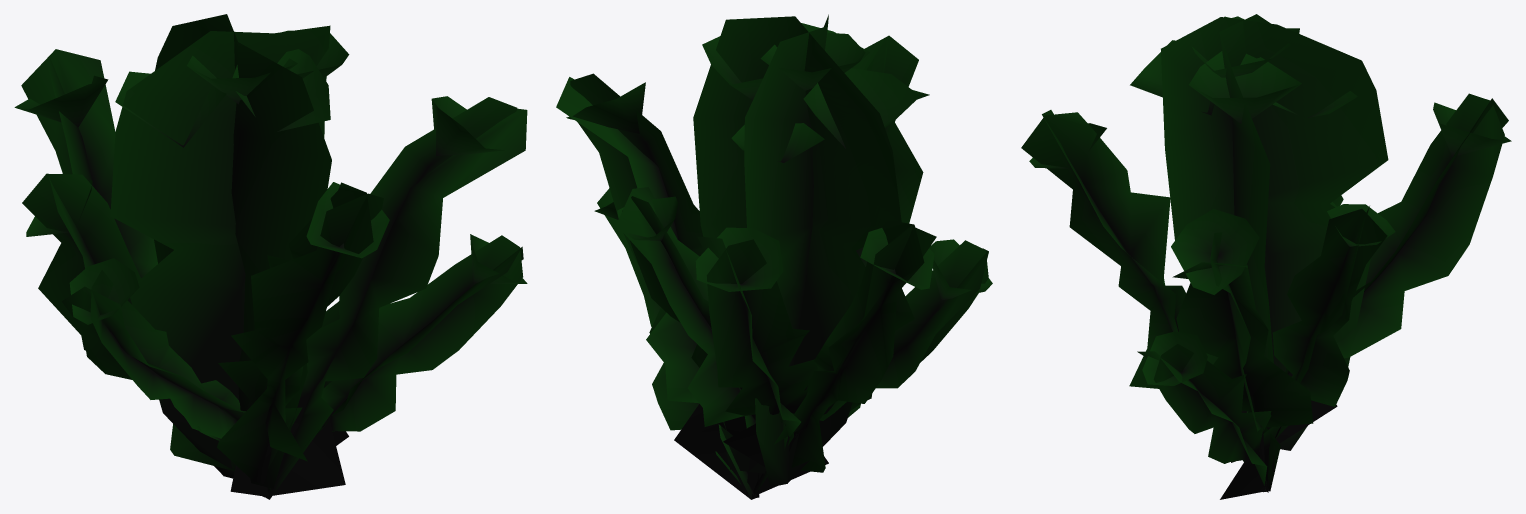
File: RabbitBushRHEP_F2.fbx
3 renders of one model, left to right at view 1: azimuth 30°, elevation 25°; view 2: azimuth 150°, elevation 25°; view 3: azimuth 270°, elevation 25°, orthographic. The views are drawn at different scales.
Parts seen in each view (by area): view 1: RabbitBushRHEPF2_LOD0; view 2: RabbitBushRHEPF2_LOD0; view 3: RabbitBushRHEPF2_LOD0.
Boxes of the visible parts, bbox=[...] form: RabbitBushRHEPF2_LOD0: bbox=[14, 14, 527, 499]; RabbitBushRHEPF2_LOD0: bbox=[556, 14, 992, 499]; RabbitBushRHEPF2_LOD0: bbox=[1021, 14, 1511, 499].
Size of what is drawn, in the model's own units: 1.63 by 1.7 by 1.67.
